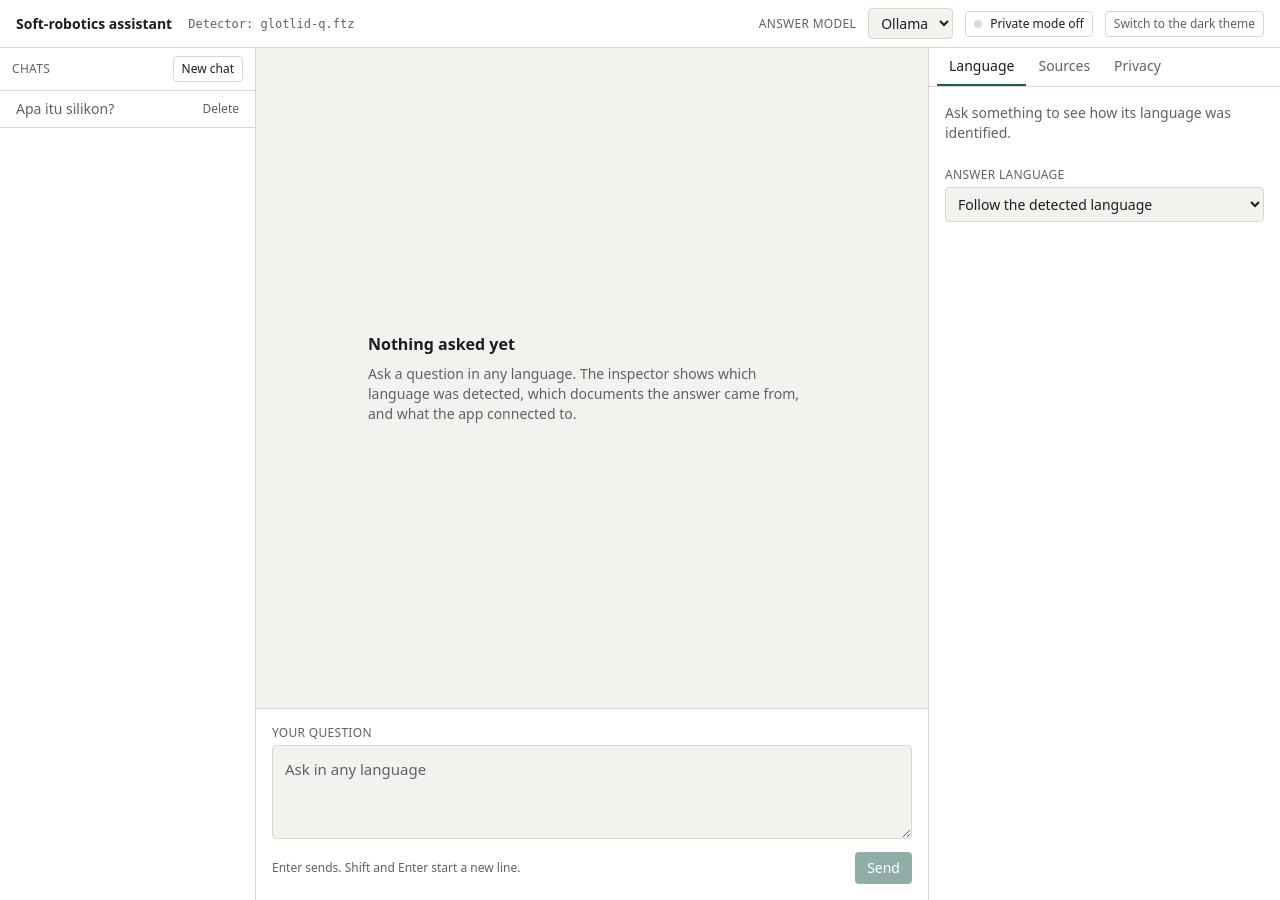
Test: App › streams an answer into the transcript
The image size is (1280, 900).
Type "Apa itu silikon?" into the text box labelled "Your question".
click(592, 792); type("Apa itu silikon?")  # box [272, 745, 912, 838]
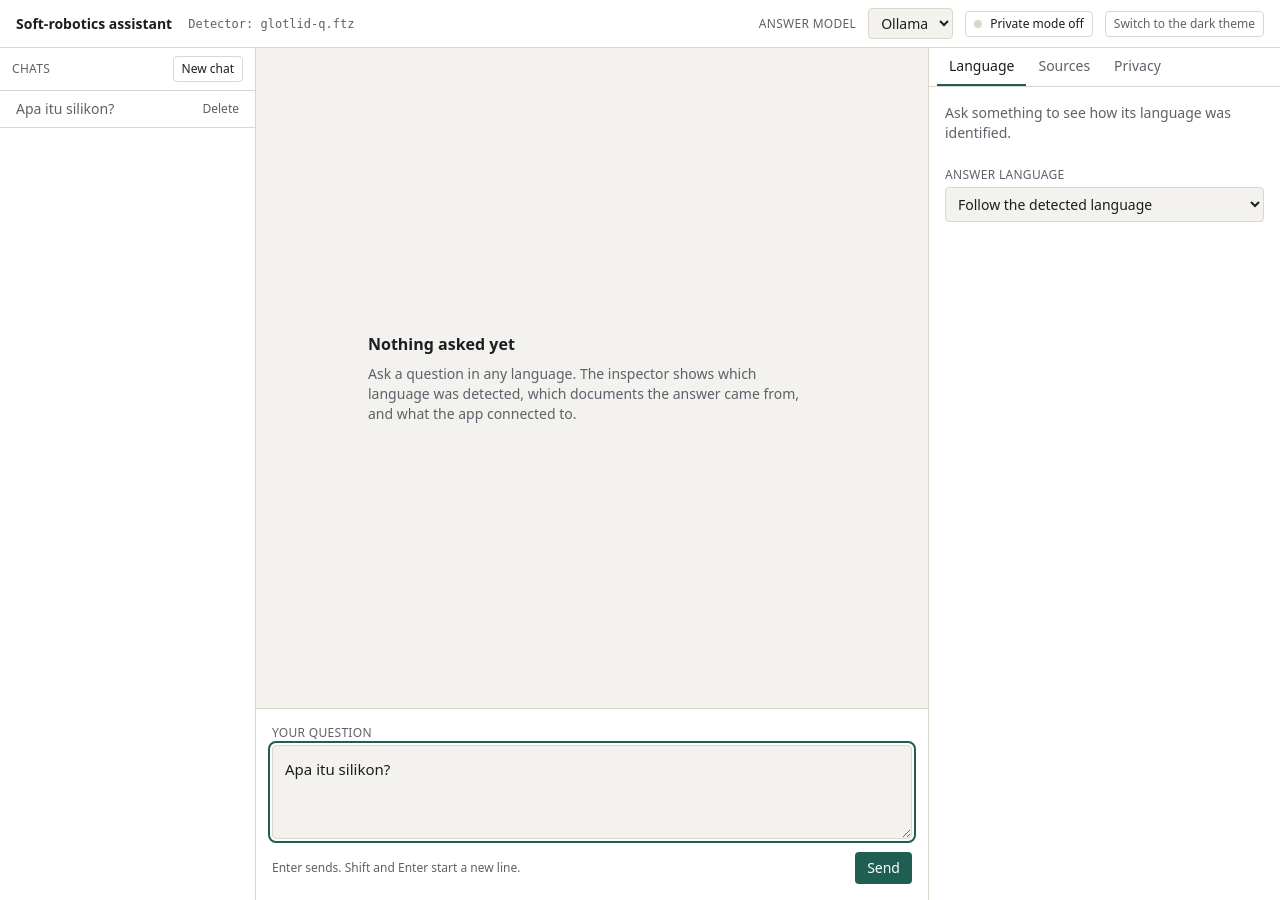
Click the button "Send".
click(884, 868)  # box [855, 852, 912, 884]
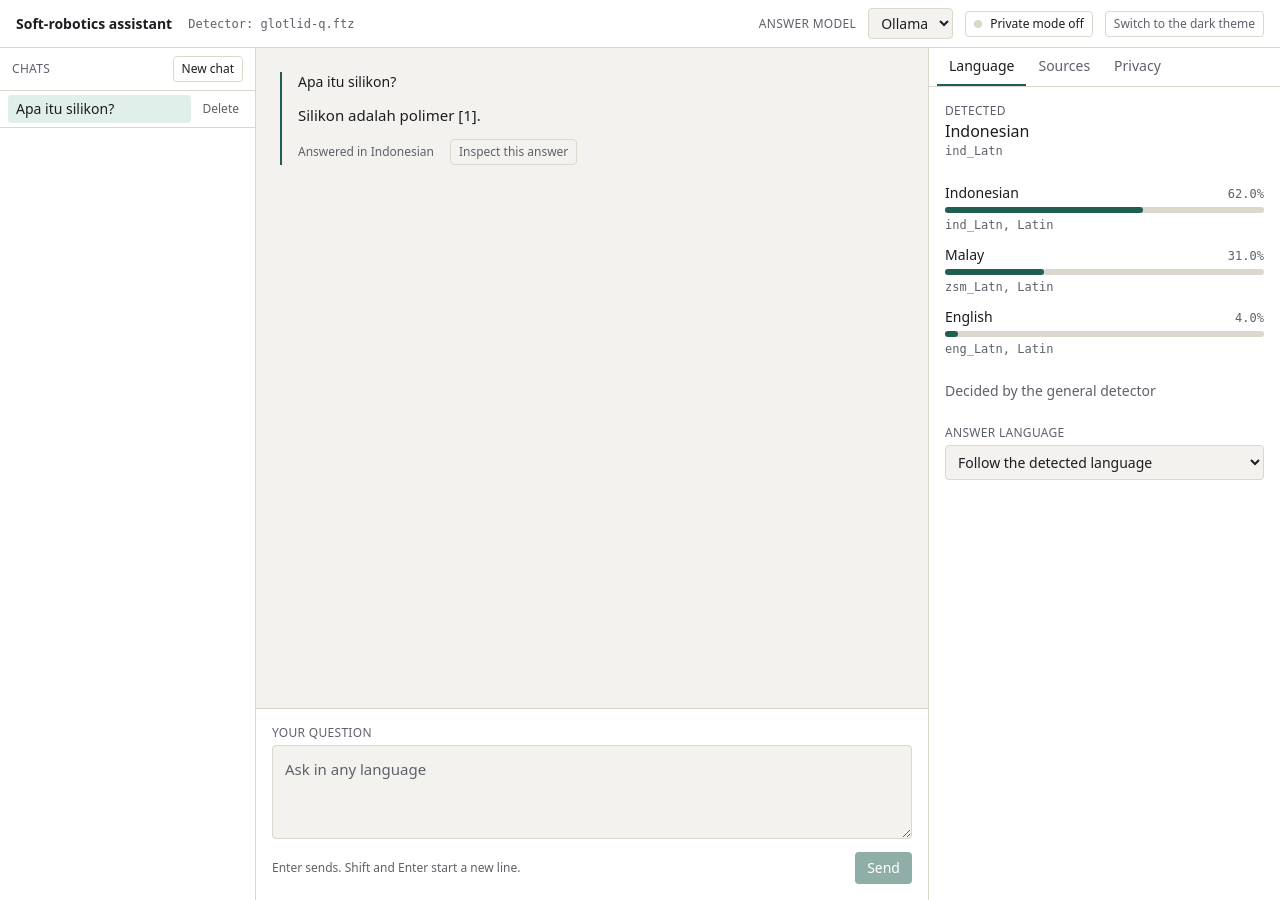
expect the button "Apa itu silikon?" is shown: met, box [8, 95, 190, 123]
expect the text "Silikon adalah polimer [1]." is shown: met, box [298, 105, 481, 125]
